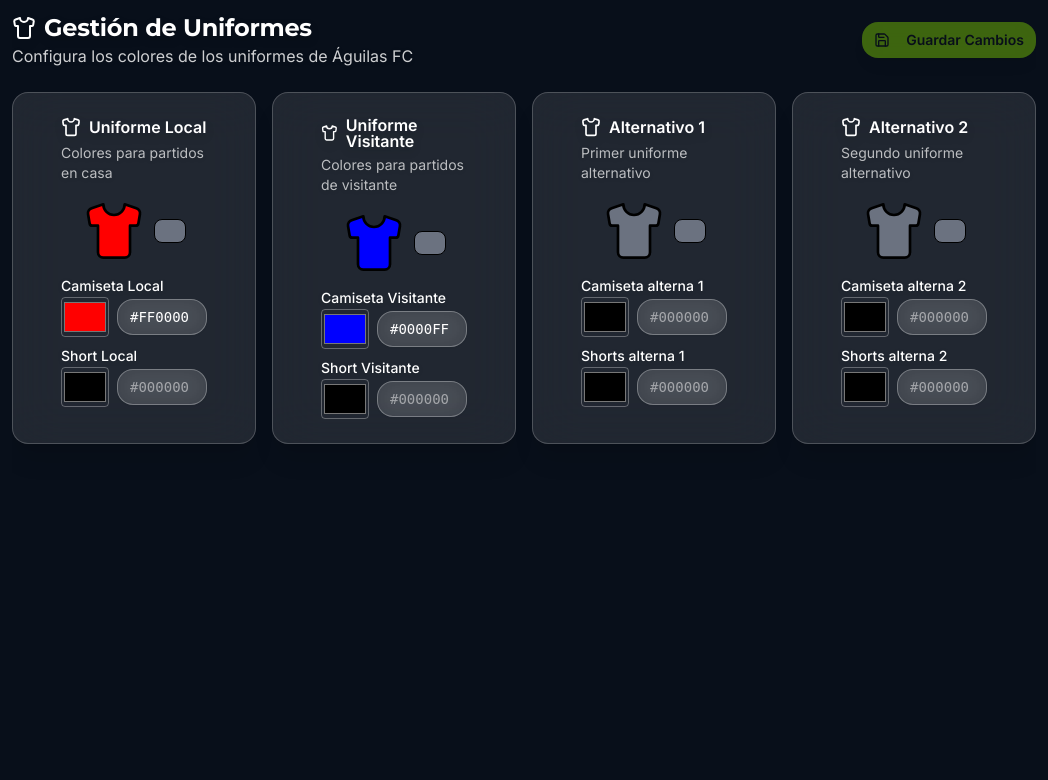
Test: TeamUniformsPage › sends only the changed colors, confirms and refreshes the team
Type "#00ff00" into the field named "Short Local (hex)".
click(162, 387); type("#00ff00")  # box [117,369,207,405]
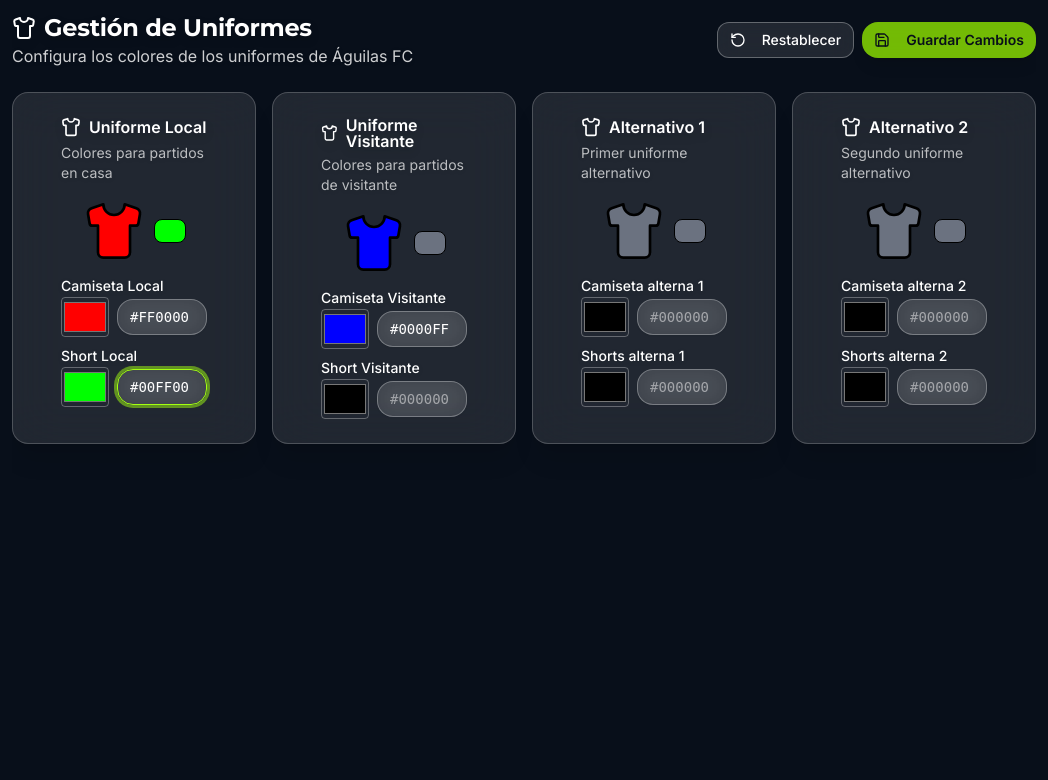
Click the button "Guardar Cambios".
click(949, 40)  # box [862,22,1036,58]
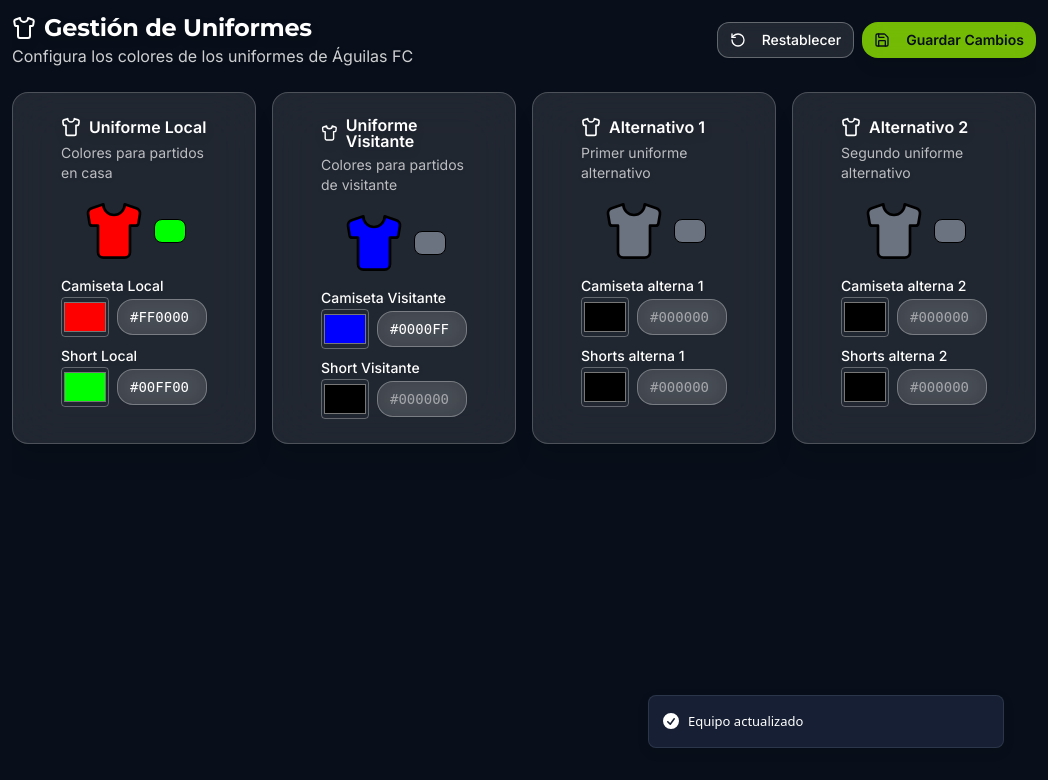
Expected: the text "Equipo actualizado" is shown, [688,712,803,731]
